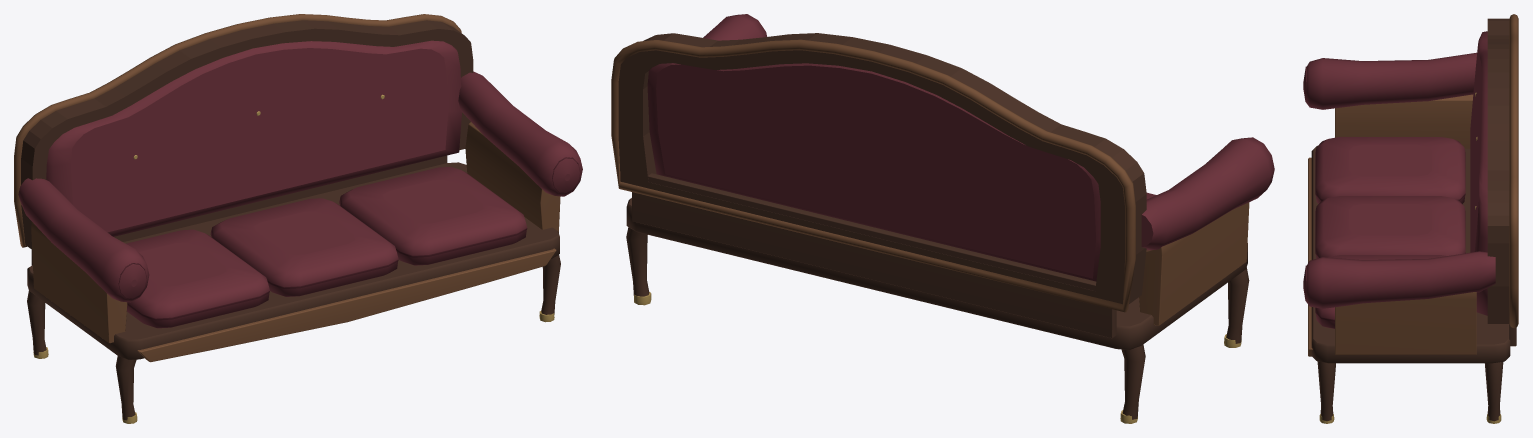
The model's file is rpg-mansion-sofa-01.glb.
3 views of the same model, side by side, from view 1: azimuth 30°, elevation 25°; view 2: azimuth 150°, elevation 25°; view 3: azimuth 270°, elevation 25° (orthographic). The views are drawn at different scales.
Parts seen in each view (by area): view 1: rpg-mansion-sofa-01; view 2: rpg-mansion-sofa-01; view 3: rpg-mansion-sofa-01.
Part boxes in pixels (bbox=[...]): rpg-mansion-sofa-01: bbox=[14, 14, 582, 423]; rpg-mansion-sofa-01: bbox=[611, 14, 1274, 423]; rpg-mansion-sofa-01: bbox=[1303, 14, 1518, 423].
Bounding box in the file's own units: 2.05 × 1.12 × 0.85.
